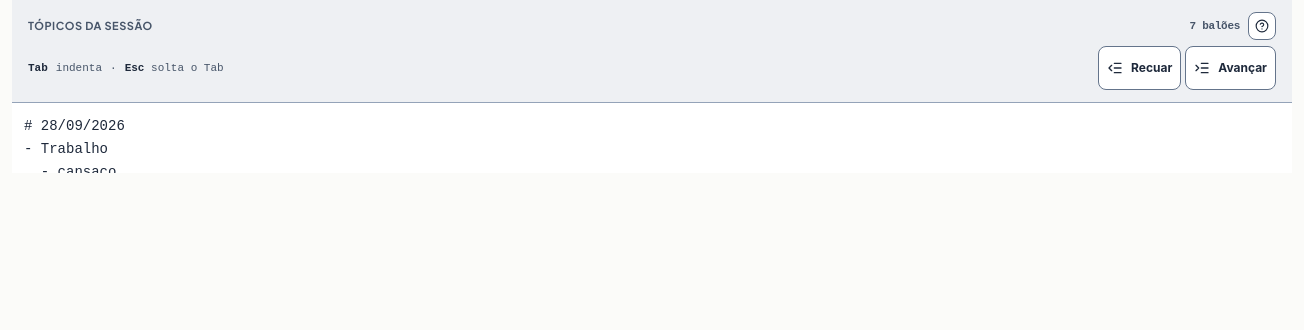
the help disclosure › and it closes again
Click the button named "Como escrever e mover tópicos" at (1262, 26), box [1248,12,1276,40]
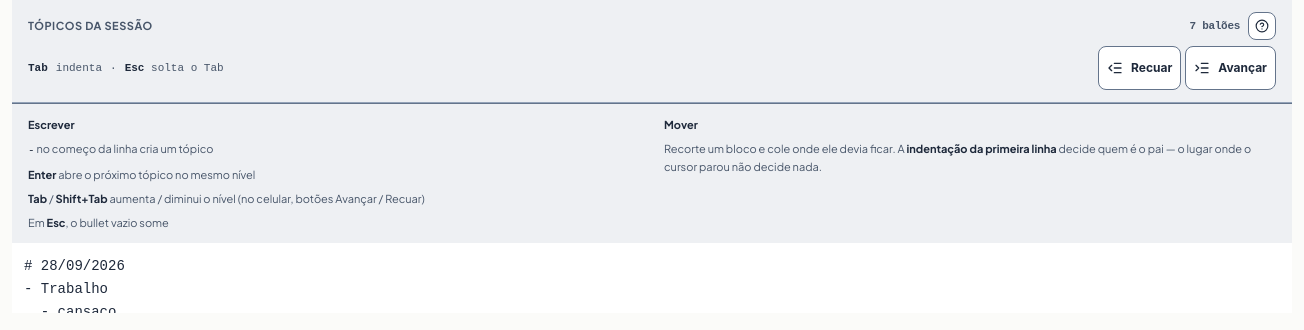
Click the button named "Como escrever e mover tópicos" at (1262, 26), box [1248,12,1276,40]
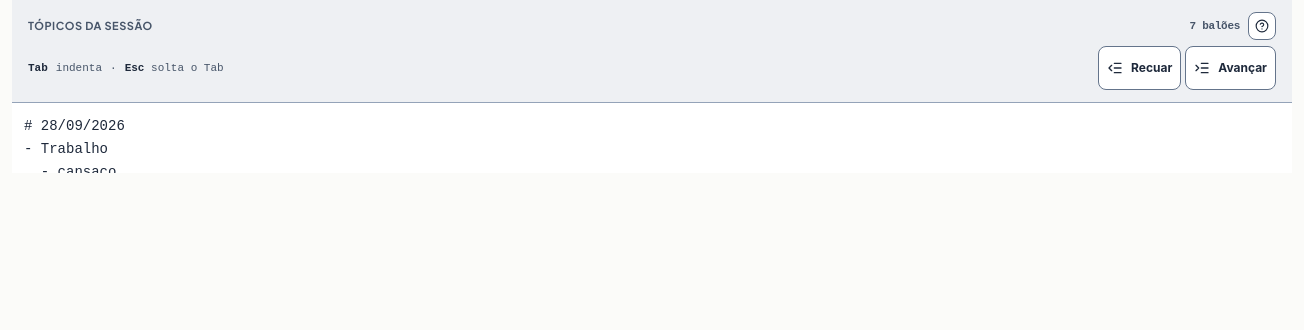
Expected: the element with id "buffer-help" is gone
